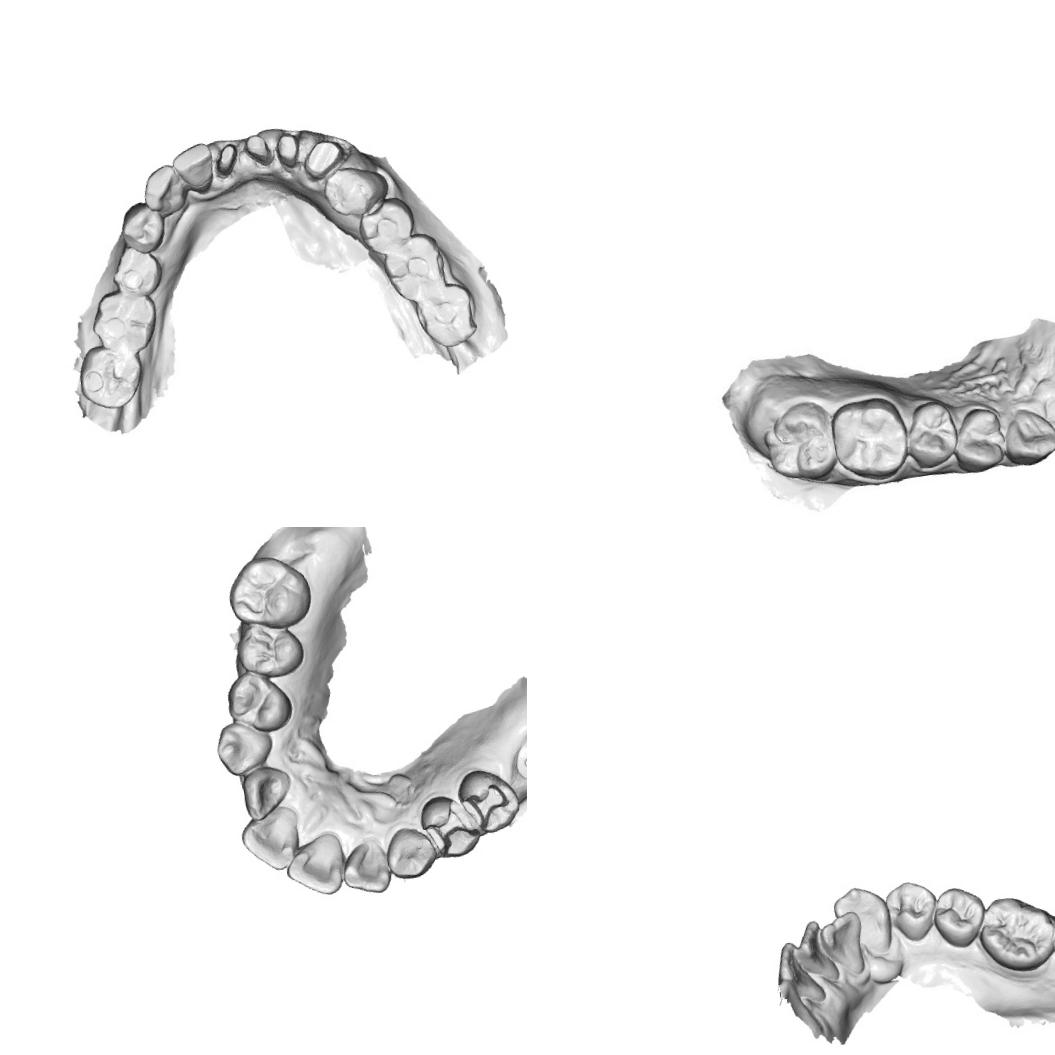canine: (828, 880, 898, 960), (212, 716, 276, 780), (998, 406, 1055, 470), (136, 160, 192, 224), (382, 823, 440, 882)
crown: (298, 134, 350, 182), (269, 128, 307, 175), (212, 136, 248, 182), (243, 130, 280, 173)
implant: (511, 738, 527, 783)
incisor: (280, 830, 350, 901), (237, 803, 305, 876), (770, 936, 829, 1014), (816, 909, 873, 981), (790, 916, 844, 990), (338, 834, 394, 898), (239, 763, 297, 822), (168, 138, 220, 200)
inlay: (418, 796, 480, 858), (456, 777, 514, 832)
molar: (222, 548, 316, 636), (758, 398, 842, 492), (971, 887, 1055, 980), (826, 395, 912, 484), (71, 338, 150, 416), (84, 283, 164, 360), (379, 229, 454, 306), (410, 280, 482, 356)
premolar: (222, 665, 296, 738), (232, 615, 308, 683), (317, 160, 394, 224), (928, 880, 992, 952), (900, 399, 963, 472), (948, 401, 1006, 475), (880, 877, 940, 948), (353, 197, 419, 261), (106, 241, 166, 303), (115, 196, 170, 258)
